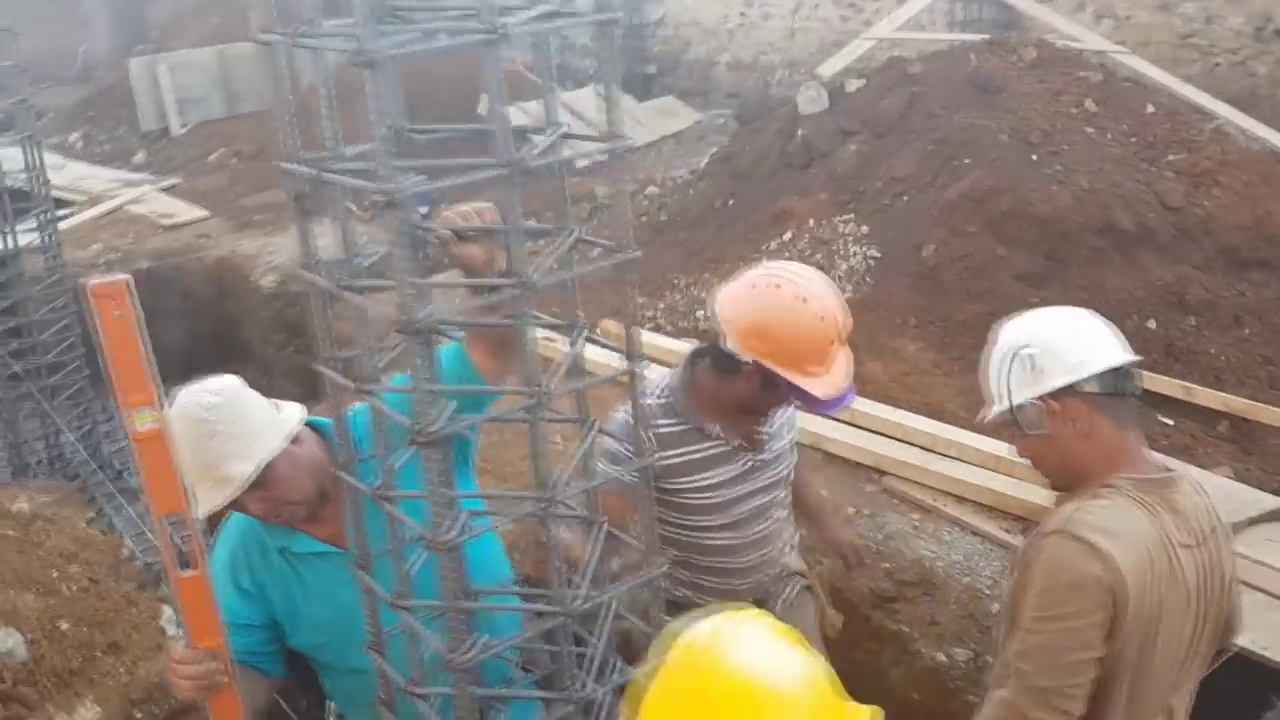helmet: (627, 610, 880, 720), (975, 307, 1153, 426), (703, 249, 838, 382)
helmet-off: (158, 382, 333, 560)
helmet-on: (979, 309, 1156, 503), (692, 254, 859, 429)
person: (151, 203, 546, 717), (561, 271, 882, 648), (959, 307, 1242, 720)
